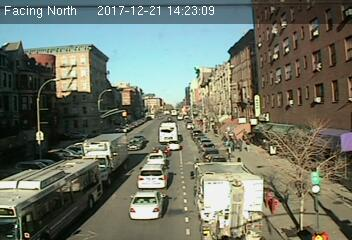bus: (1, 158, 103, 238), (158, 122, 177, 145)
car: (129, 190, 167, 221), (137, 165, 168, 189), (146, 153, 167, 167), (168, 140, 181, 151)
truck: (192, 160, 263, 240), (83, 134, 128, 183)
